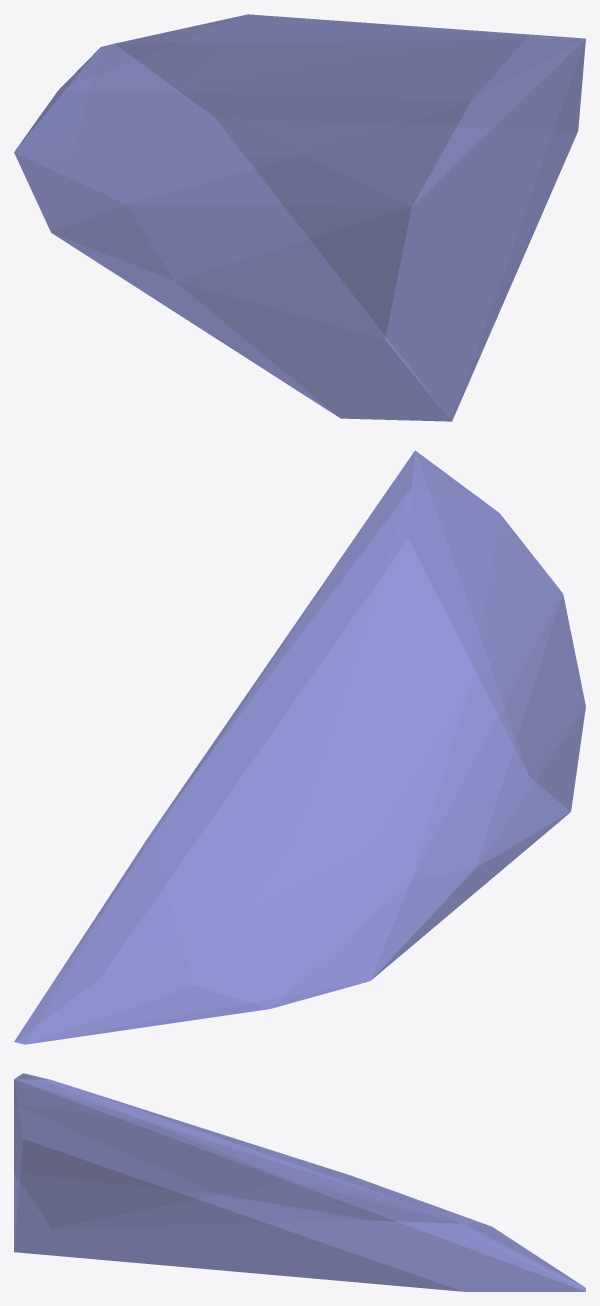
3 renders of one model, top to bottom at view 1: azimuth 30°, elevation 25°; view 2: azimuth 150°, elevation 25°; view 3: azimuth 270°, elevation 25°, orthographic. The views are drawn at different scales.
Parts seen in each view (by area): view 1: Shape_IndexedFaceSet.028_Shape_IndexedFaceSet.4582; view 2: Shape_IndexedFaceSet.028_Shape_IndexedFaceSet.4582; view 3: Shape_IndexedFaceSet.028_Shape_IndexedFaceSet.4582.
Part boxes in pixels (<box>): Shape_IndexedFaceSet.028_Shape_IndexedFaceSet.4582: <box>14,14,585,421</box>; Shape_IndexedFaceSet.028_Shape_IndexedFaceSet.4582: <box>14,450,585,1044</box>; Shape_IndexedFaceSet.028_Shape_IndexedFaceSet.4582: <box>14,1073,585,1291</box>.
Size of the model in its own units: 0.0273 by 0.038 by 0.0926.
